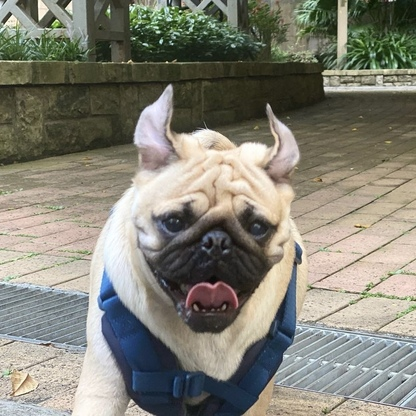Pug: (67, 76, 316, 416)
